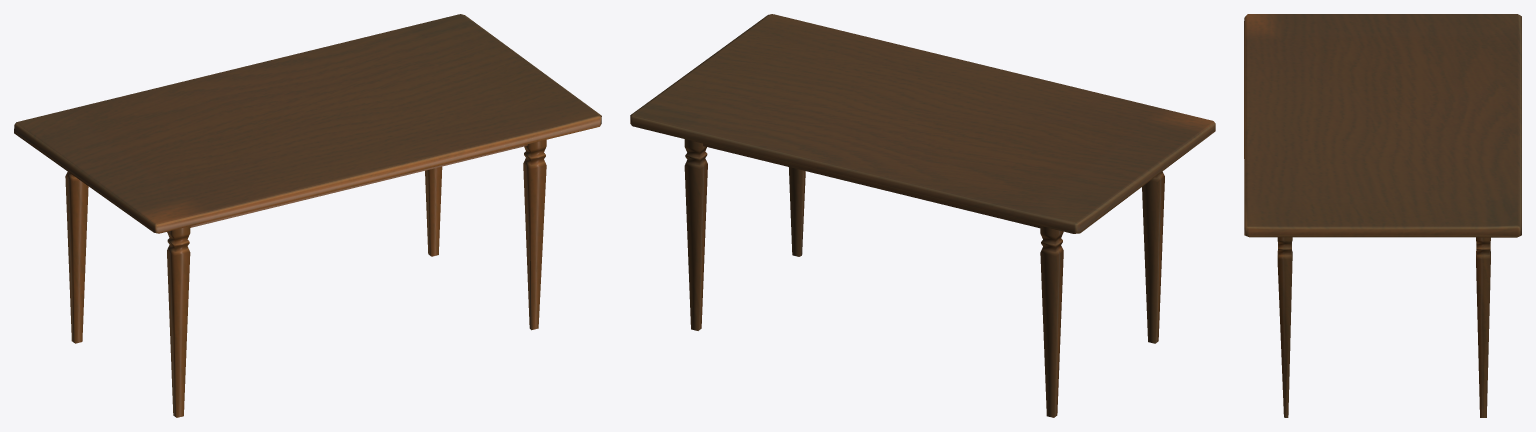
Rendered from Table1_texture.fbx.
The picture shows the model from 3 angles, left to right: view 1: azimuth 30°, elevation 25°; view 2: azimuth 150°, elevation 25°; view 3: azimuth 270°, elevation 25°; orthographic projection. The views are drawn at different scales.
Visible parts, largest first — view 1: Table1_texture_low; view 2: Table1_texture_low; view 3: Table1_texture_low.
Part boxes in pixels (x1,y1,x2,y2): Table1_texture_low: (14, 14, 601, 417); Table1_texture_low: (630, 14, 1215, 417); Table1_texture_low: (1244, 14, 1521, 417).
Bounding box in the file's own units: 18.08 × 8.32 × 9.87.
